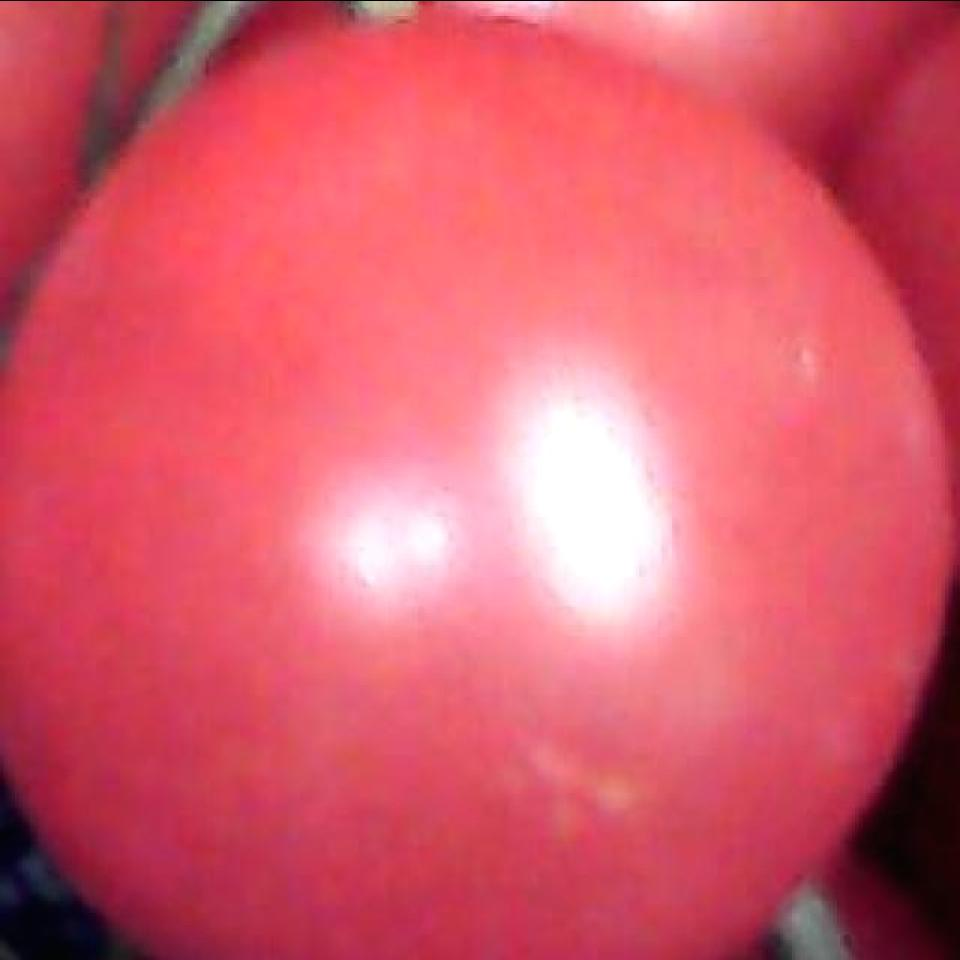Healthy: (3, 1, 960, 950)
